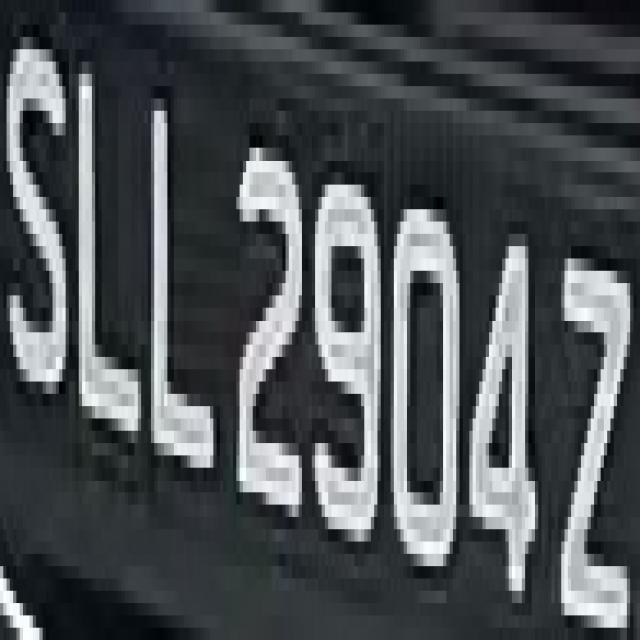0: (384, 99, 469, 616)
2: (230, 111, 302, 554)
4: (469, 184, 541, 640)
9: (298, 135, 381, 554)
L: (144, 49, 223, 542), (66, 50, 141, 492)
S: (0, 0, 66, 443)
Z: (3, 4, 3, 12)
